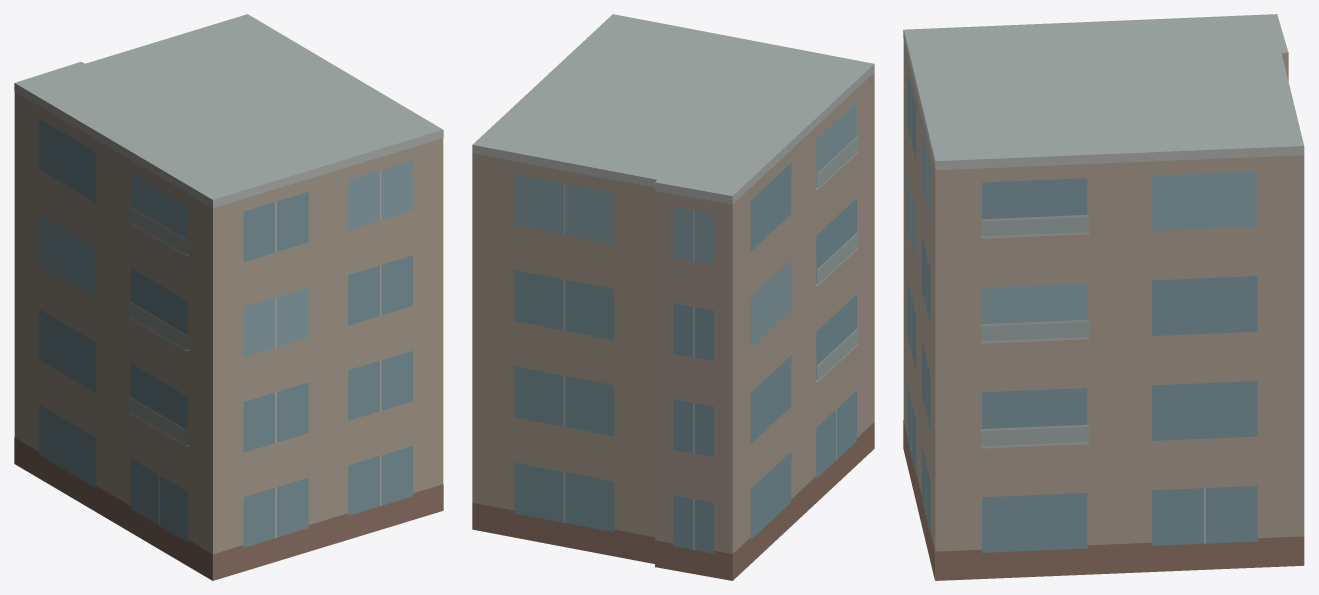
File: survey-upis-32526770.glb
3 views of the same model, side by side, from view 1: azimuth 30°, elevation 25°; view 2: azimuth 150°, elevation 25°; view 3: azimuth 270°, elevation 25° (orthographic). The views are drawn at different scales.
Parts seen in each view (by area): view 1: survey-upis-32526770.tmp; view 2: survey-upis-32526770.tmp; view 3: survey-upis-32526770.tmp.
Boxes of the visible parts, x1=… form: survey-upis-32526770.tmp: x1=14, y1=14, x2=443, y2=580; survey-upis-32526770.tmp: x1=472, y1=14, x2=874, y2=580; survey-upis-32526770.tmp: x1=903, y1=14, x2=1304, y2=580.
Size of the model in its own units: 8.43 by 11.2 by 9.7.
